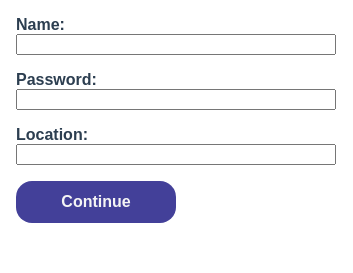
Test: sign-in-form › should show error message when name is not valid
The width and height of the screenshot is (353, 273).
Type "goodPassword!" into the password field with class "sign-in-form__input-password" at (176, 100), box [16,89,336,110]
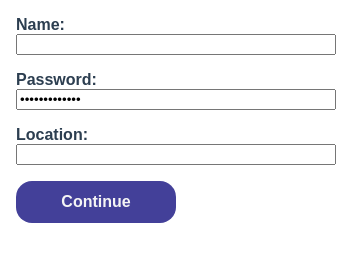
Submit the form with class "sign-in-form"
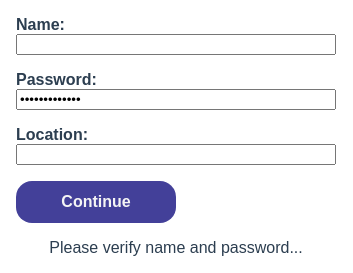
Check: the element with class "sign-in-form__message--error" is shown, box [49,239,303,256]
